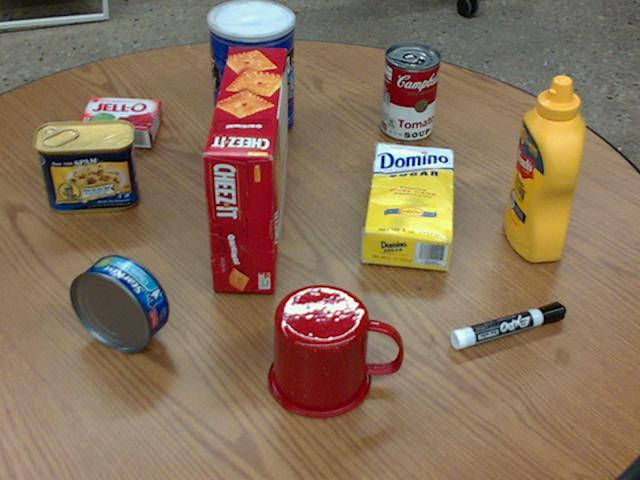cracker_box: (202, 46, 287, 293)
gelatin_box: (74, 95, 159, 144)
large_marker: (450, 302, 564, 349)
master_chef_can: (206, 0, 292, 139)
mug: (268, 284, 402, 417)
mustard_bottle: (504, 77, 584, 261)
potted_meat_can: (33, 118, 137, 210)
sugar_box: (361, 144, 452, 268)
tomato_soup_can: (380, 42, 440, 140)
tuna_fish_can: (71, 255, 169, 351)
